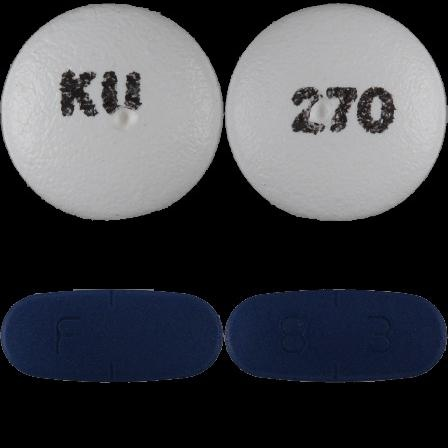63739-548: (0, 0, 224, 224)
